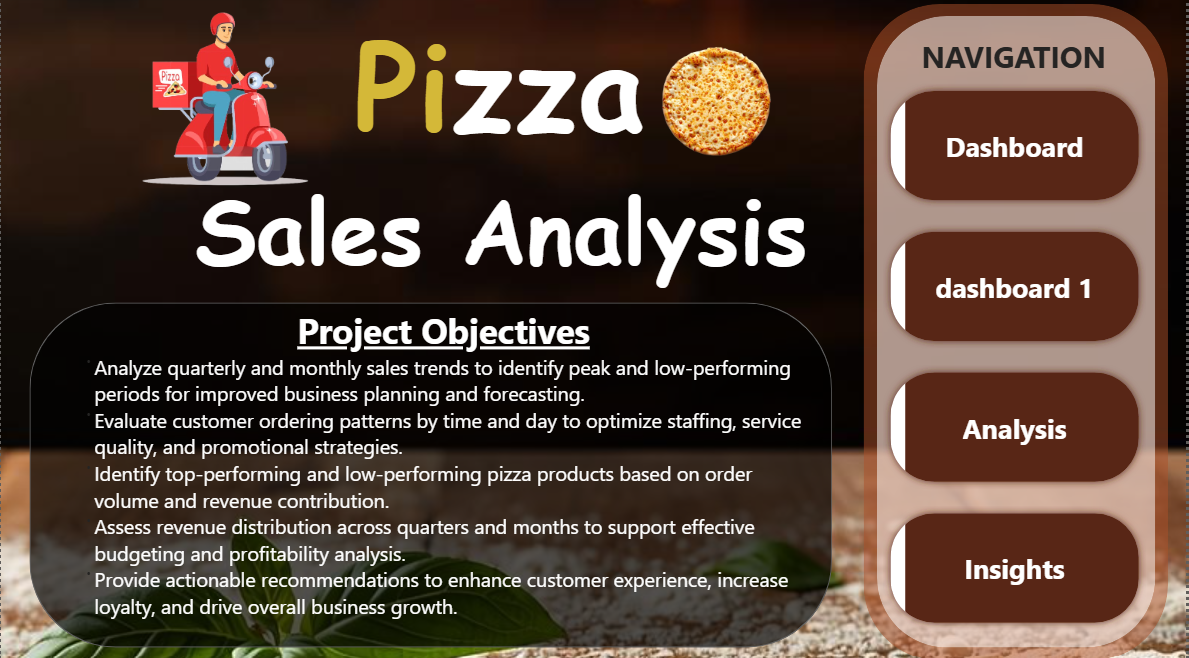

This screenshot's page, from the dashboard's own definition file:
{"tool":"powerbi","page":{"name":"Navigation","canvas":[1280,720],"ordinal":0},"visuals":[{"type":"group","id":"g1","title":"Group 1","box":[930.6,9.2,328.6,710.4],"z":0},{"type":"shape","box":[930.6,9.2,328.7,709.2],"z":1000,"group":"g1"},{"type":"pageNavigator","box":[952.1,95.5,285,591],"z":1000},{"type":"shape","box":[944.4,22.9,300.4,681.7],"z":2000,"group":"g1"},{"type":"image","box":[709.2,48.6,126.3,132.8],"z":2000},{"type":"textbox","box":[204,0,709.2,359.5],"z":3000},{"type":"image","box":[97.2,9.7,289.8,218.6],"z":4000},{"type":"textbox","box":[966.7,38.9,252.6,56.7],"z":5000},{"type":"shape","box":[30.8,331.9,866.3,372.4],"z":7000},{"type":"textbox","box":[77.7,331.9,799.9,377.3],"z":7001}]}

Visuals, with their boxes in screenshot pixels (x1, y1, x2, y2), scaled from the page's 1280x720 canvas onto the 1189x658 screenshot:
"Group 1" group: [864, 8, 1170, 657]
shape: [864, 8, 1170, 657]
pageNavigator: [884, 87, 1149, 627]
shape: [877, 21, 1156, 644]
image: [659, 44, 776, 166]
textbox: [189, 0, 848, 329]
image: [90, 9, 359, 209]
textbox: [898, 36, 1133, 87]
shape: [29, 303, 833, 644]
textbox: [72, 303, 815, 648]
